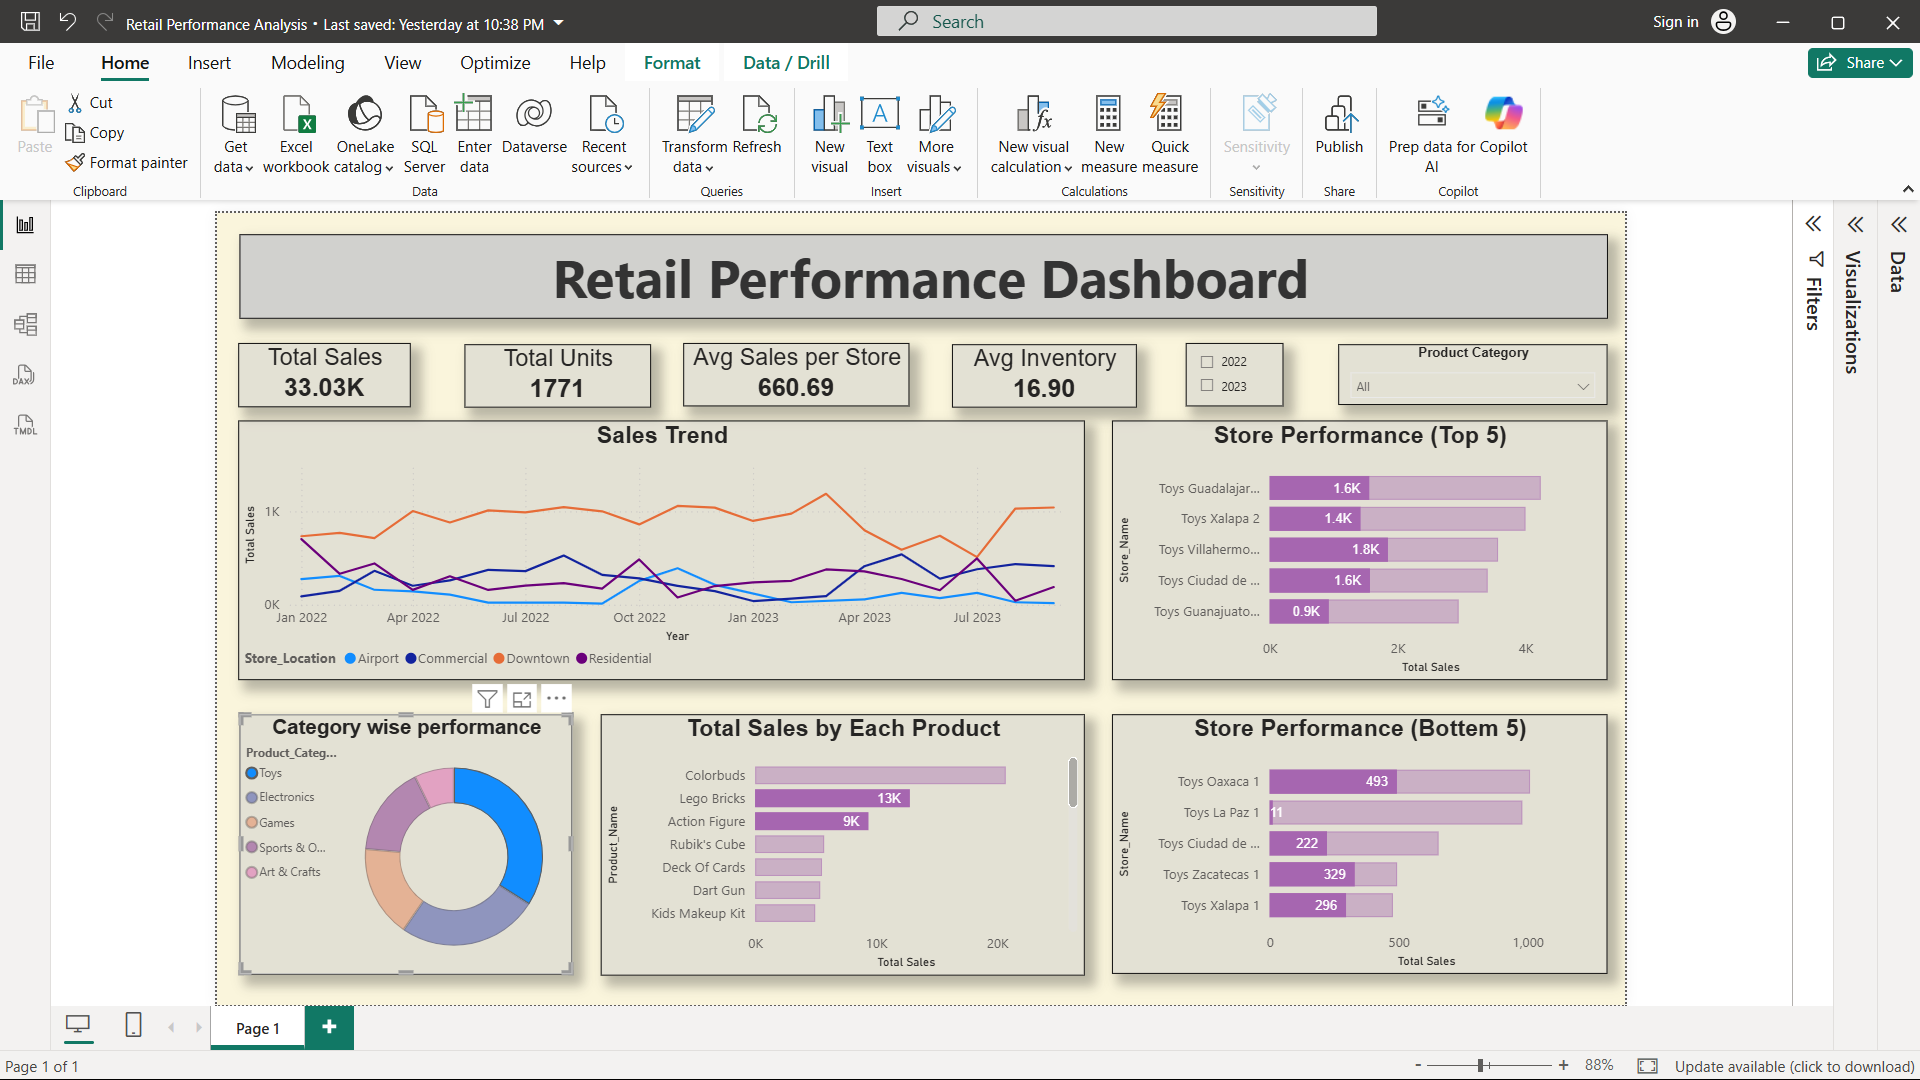

This screenshot's page, from the dashboard's own definition file:
{"tool":"powerbi","page":{"name":"Page 1","canvas":[1280,720],"ordinal":0},"visuals":[{"type":"textbox","box":[20.2,18.8,1244,76.7],"z":0},{"type":"card","title":"Avg Inventory","fields":{"Values":["Inventory.Avg Inventory"]},"box":[668.4,119.7,168.1,57.8],"z":1000},{"type":"card","title":"Total Units","fields":{"Values":["Sales.Total Units"]},"box":[224.6,119.7,169.4,57.8],"z":2000},{"type":"card","title":"Total Sales","fields":{"Values":["Sales.Total Sales"]},"box":[19.8,118.6,157,58.1],"z":3000},{"type":"card","title":"Avg Sales per Store","fields":{"Values":["Sales.Avg Sales per Store"]},"box":[423.6,118.3,205.8,57.8],"z":4000},{"type":"lineChart","title":"Sales Trend","fields":{"Y":["Sales.Total Sales"],"Category":["Sales.Date.Variation.Date Hierarchy.Year","Sales.Date.Variation.Date Hierarchy.Month"],"Series":["Stores.Store_Location"]},"box":[19.8,188.4,769.8,236],"z":5000},{"type":"barChart","title":"Store Performance (Top 5)","fields":{"Category":["Stores.Store_Name"],"Y":["Sales.Total Sales"]},"box":[814,188.4,450,236],"z":6000},{"type":"donutChart","title":"Category wise performance","fields":{"Category":["Products.Product_Category"],"Y":["Sales.Total Sales"]},"box":[20.2,455.9,302.6,236.7],"z":7000},{"type":"clusteredBarChart","title":"Total Sales by Each Product","fields":{"Category":["Products.Product_Name"],"Y":["Sales.Total Sales"]},"box":[349.4,455.7,439.8,237.4],"z":8000},{"type":"barChart","title":"Store Performance (Bottem 5)","fields":{"Category":["Stores.Store_Name"],"Y":["Sales.Total Sales"]},"box":[814,455.8,450,236],"z":9000},{"type":"slicer","fields":{"Values":["Sales.Date.Variation.Date Hierarchy.Year"]},"box":[880.9,118.3,88.8,57.8],"z":10000},{"type":"slicer","title":"Product Category","fields":{"Values":["Products.Product_Category"]},"box":[1019.4,119.7,244.8,55.1],"z":11000}]}

Visuals, with their boxes on the page's 1280x720 design canvas (x1, y1, x2, y2). These are canvas units, not pixel positions in the 1920x1080 screenshot, which may show the page scaled, cropped or inside an application window:
textbox: 20:19:1264:96
"Avg Inventory" card: 668:120:836:178
"Total Units" card: 225:120:394:178
"Total Sales" card: 20:119:177:177
"Avg Sales per Store" card: 424:118:629:176
"Sales Trend" lineChart: 20:188:790:424
"Store Performance (Top 5)" barChart: 814:188:1264:424
"Category wise performance" donutChart: 20:456:323:693
"Total Sales by Each Product" clusteredBarChart: 349:456:789:693
"Store Performance (Bottem 5)" barChart: 814:456:1264:692
slicer - Sales.Date.Variation.Date Hierarchy.Year: 881:118:970:176
"Product Category" slicer: 1019:120:1264:175
